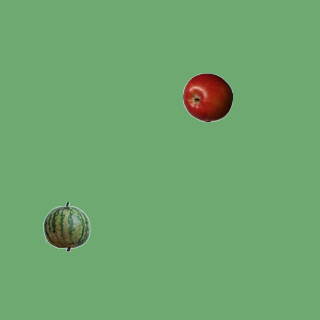Apple Braeburn: (182, 72, 232, 122)
Watermelon: (41, 201, 91, 251)
